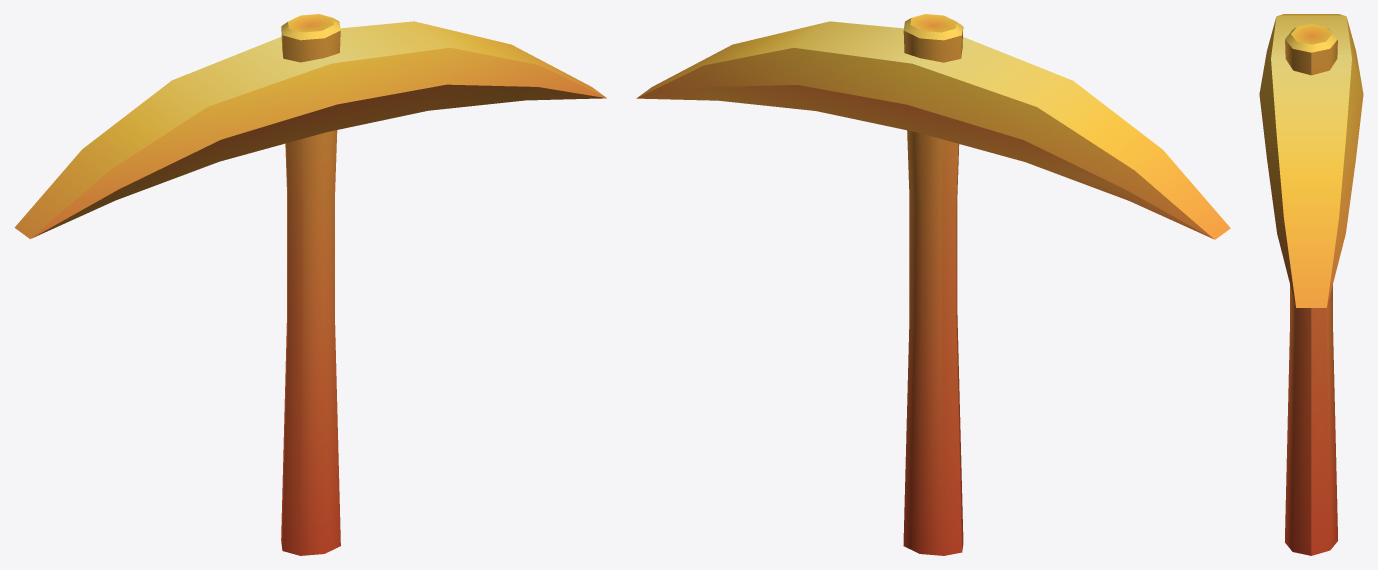
File: pickaxe_gold.gltf.glb
3 views of the same model, side by side, from view 1: azimuth 30°, elevation 25°; view 2: azimuth 150°, elevation 25°; view 3: azimuth 270°, elevation 25° (orthographic). The views are drawn at different scales.
Parts seen in each view (by area): view 1: pickaxe_gold; view 2: pickaxe_gold; view 3: pickaxe_gold.
Part boxes in pixels (x1,y1,x2,y2): pickaxe_gold: (14, 14, 606, 555); pickaxe_gold: (636, 14, 1230, 555); pickaxe_gold: (1259, 14, 1363, 555).
Size of the model in its own units: 1.6 by 1.4 by 0.2568.
1 material, 1 textured.
